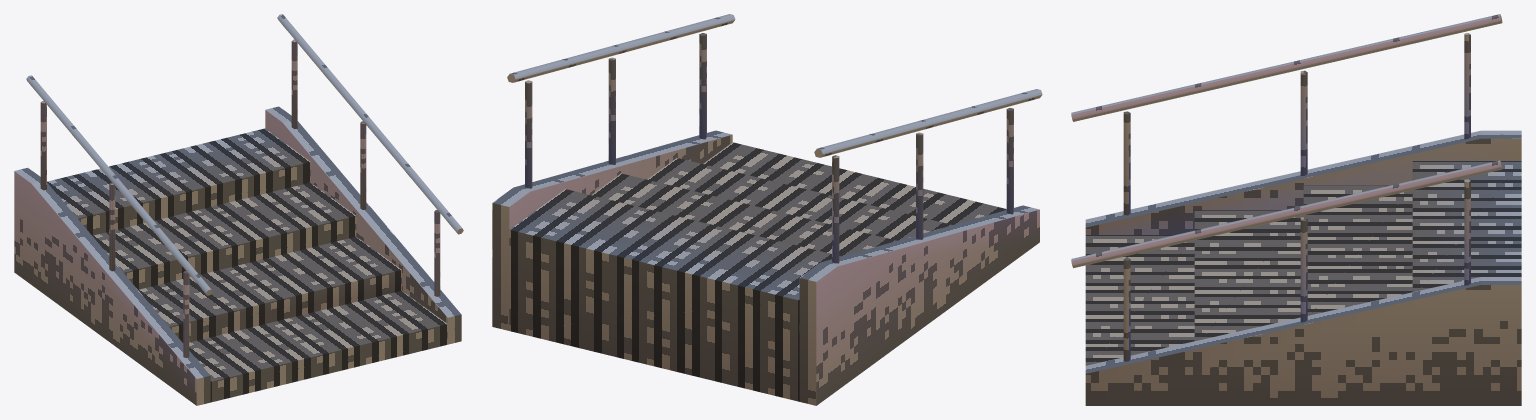
File: stn.stairs.glb
The picture shows the model from 3 angles, left to right: view 1: azimuth 30°, elevation 25°; view 2: azimuth 150°, elevation 25°; view 3: azimuth 270°, elevation 25°; orthographic projection. The views are drawn at different scales.
Visible parts, largest first — view 1: kit_flight, kit_stringers, kit_rails, kit_posts; view 2: kit_flight, kit_stringers, kit_posts, kit_rails; view 3: kit_stringers, kit_flight, kit_rails, kit_posts.
Part boxes in pixels (x1,y1,x2,y2): kit_flight: (47,128,447,402); kit_stringers: (14,106,461,405); kit_rails: (26,14,463,295); kit_posts: (40,39,440,357); kit_flight: (509,142,1006,401); kit_stringers: (492,130,1039,405); kit_posts: (525,33,1013,263); kit_rails: (507,14,1042,157); kit_stringers: (1085,130,1521,405); kit_flight: (1085,161,1521,365); kit_rails: (1071,14,1502,268); kit_posts: (1123,33,1470,361).
Bounding box in the file's own units: 2.68 × 1.95 × 3.31.
Materials: 4 (4 with a texture image).
